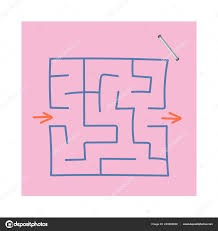maze: (48, 57, 170, 177)
